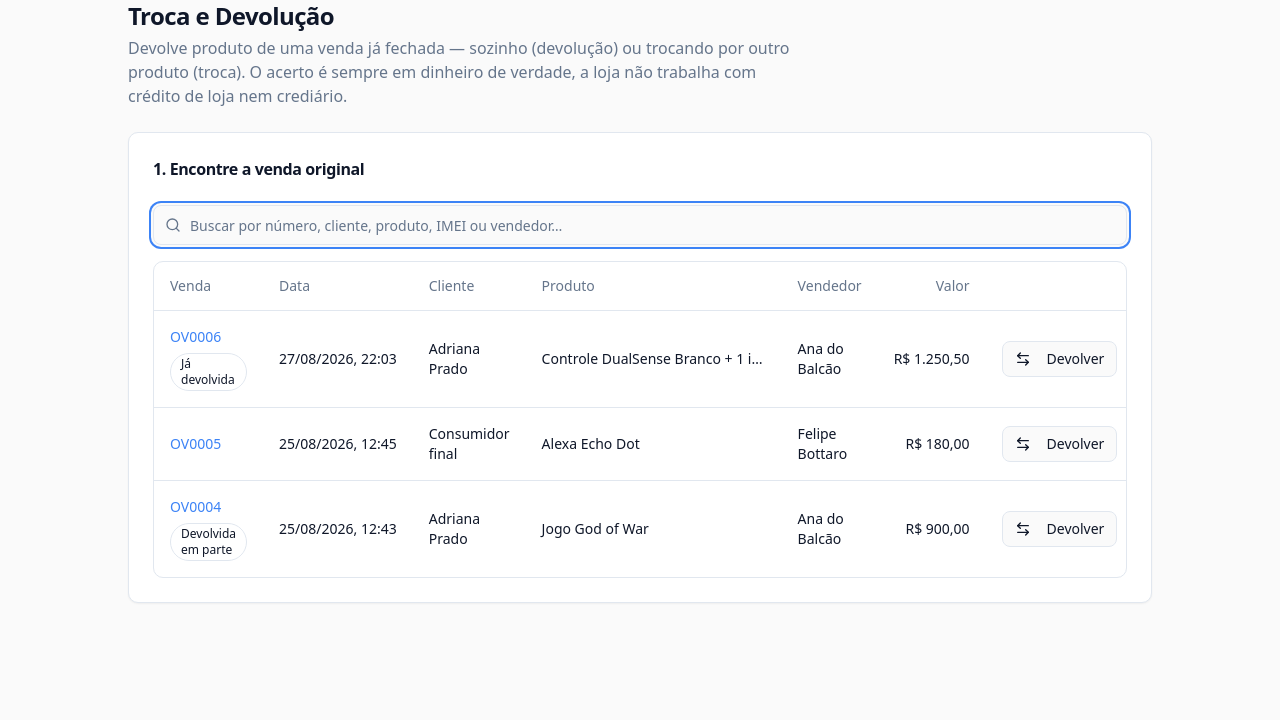
A lista de vendas da Troca e Devolução › as duas ações da linha › o número da venda abre a ficha completa, não a devolução
Step 1. Click the button "OV0005" → point(196, 444), box left=170, top=434, right=221, bottom=454
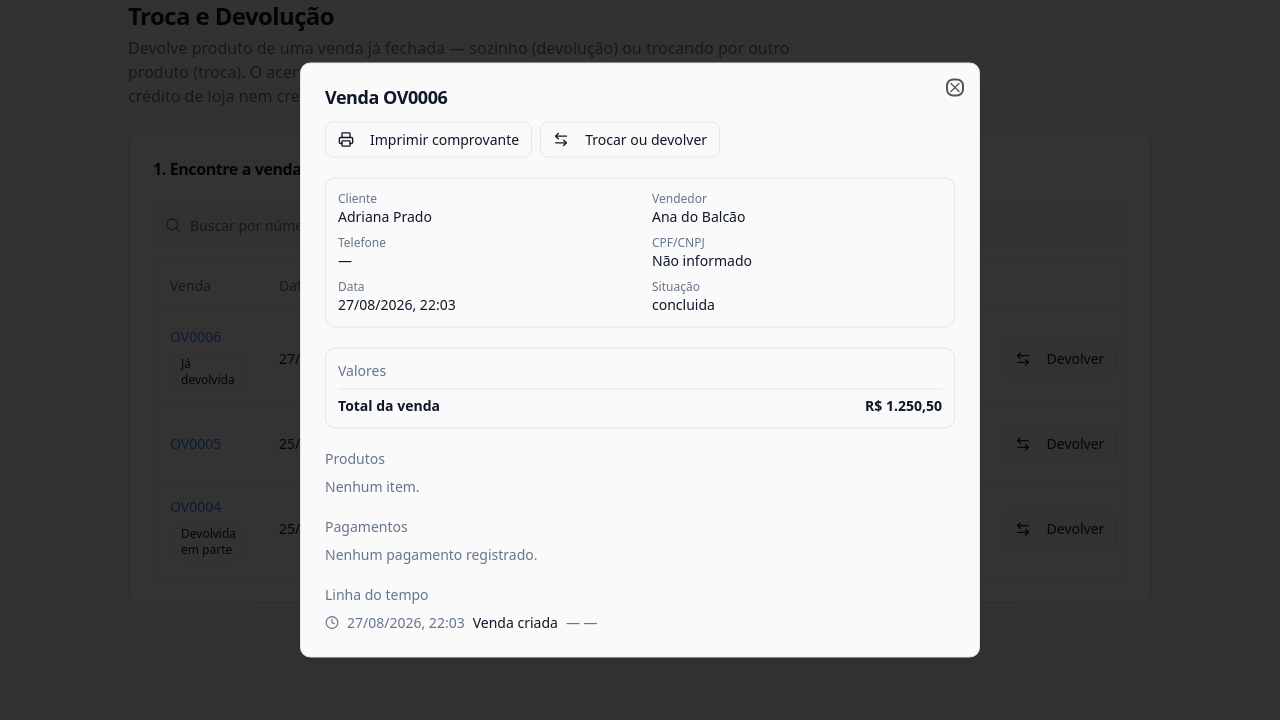
Expected: the dialog is shown, left=300, top=62, right=980, bottom=658
